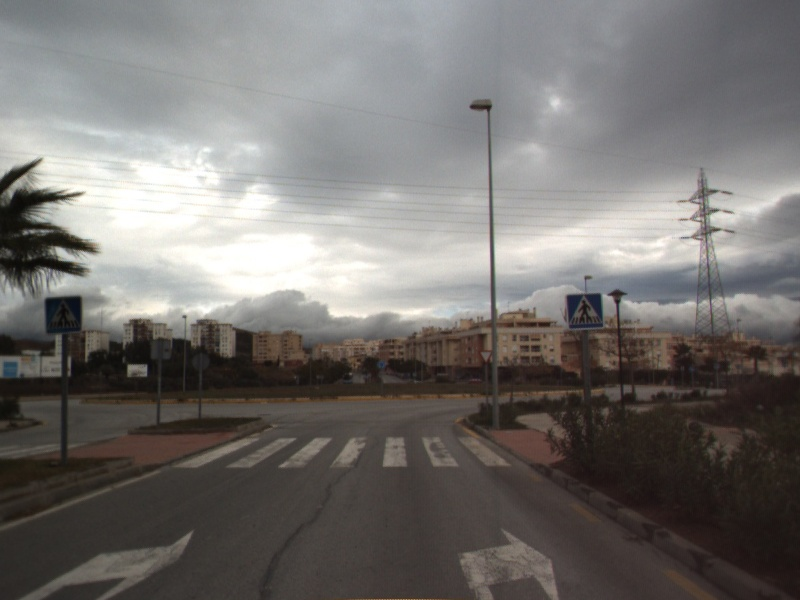RIGHT: (14, 526, 198, 600), (455, 525, 561, 600)
